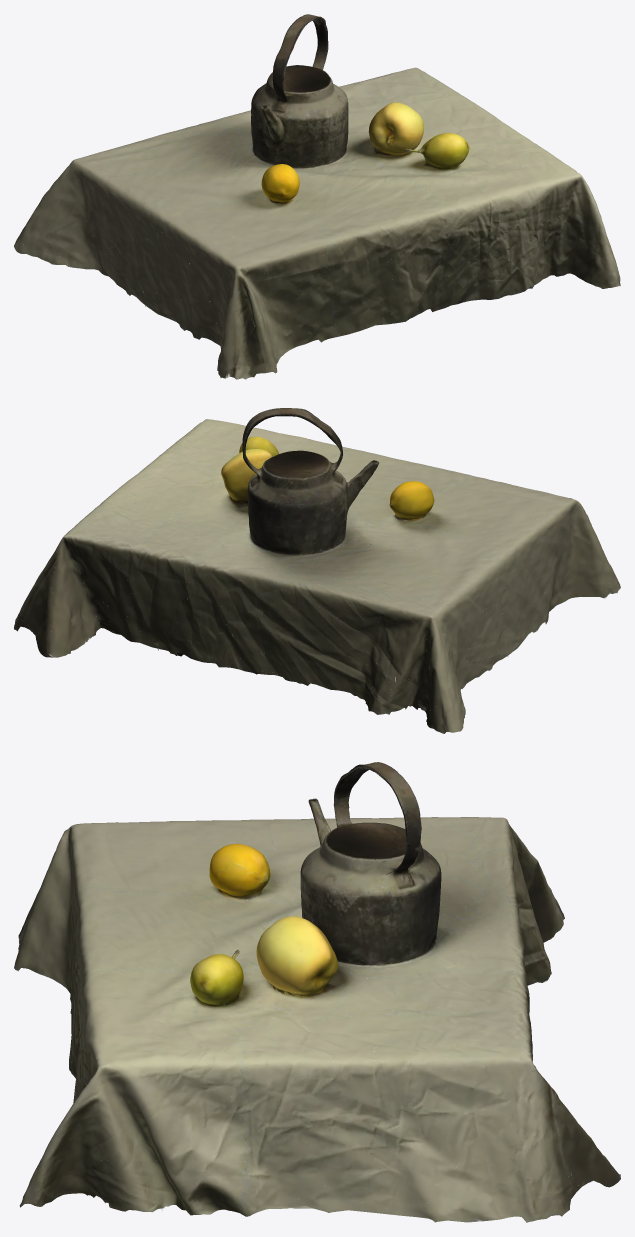
The model's file is 静物系列_茶壶柠檬07_opt.glb.
3 views of the same model, one above another, from view 1: azimuth 30°, elevation 25°; view 2: azimuth 150°, elevation 25°; view 3: azimuth 270°, elevation 25° (orthographic). The views are drawn at different scales.
Visible parts, largest first — view 1: defaultMat, defaultMat_1; view 2: defaultMat, defaultMat_1; view 3: defaultMat, defaultMat_1.
Boxes of the visible parts, left/top/right/bottom form: defaultMat: left=14, top=14, right=620, bottom=379; defaultMat_1: left=17, top=15, right=613, bottom=379; defaultMat: left=14, top=408, right=620, bottom=733; defaultMat_1: left=15, top=413, right=598, bottom=733; defaultMat: left=14, top=762, right=620, bottom=1222; defaultMat_1: left=14, top=773, right=620, bottom=1222.
Bounding box in the file's own units: 1.26 × 0.6 × 1.06.
Materials: 1 (1 with a texture image).
